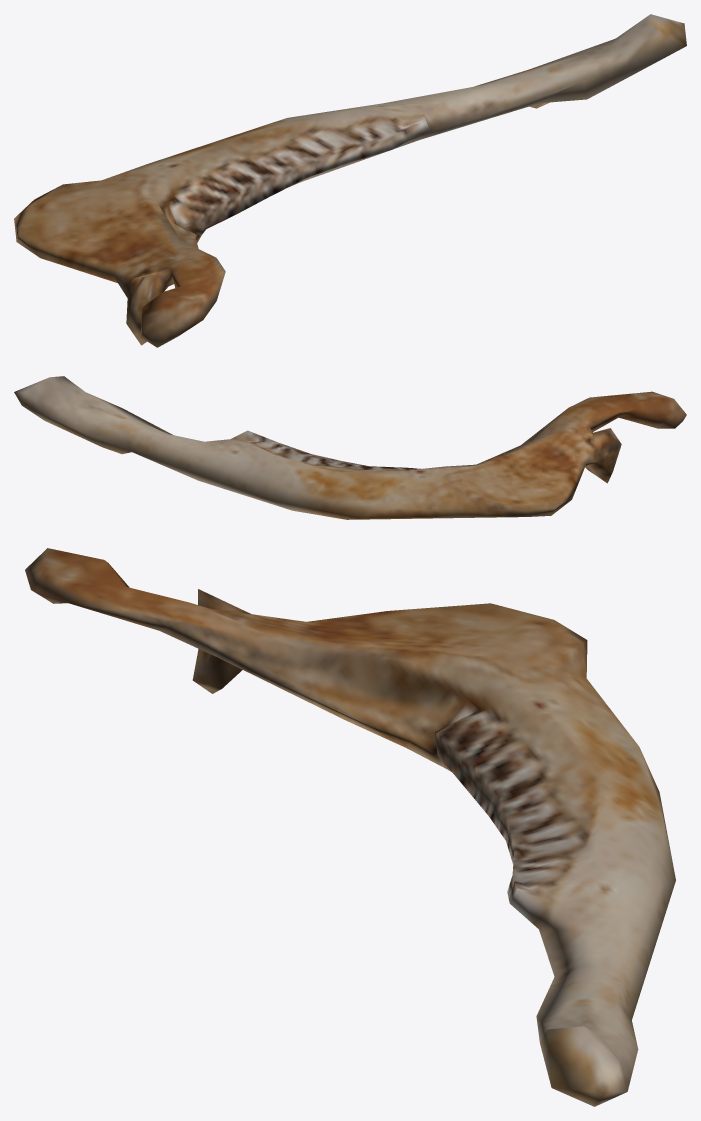
Rendered from skeleton_animal_jaw.fbx.
3 renders of one model, top to bottom at view 1: azimuth 30°, elevation 25°; view 2: azimuth 150°, elevation 25°; view 3: azimuth 270°, elevation 25°, orthographic. The views are drawn at different scales.
Parts seen in each view (by area): view 1: skeleton_animal_jaw; view 2: skeleton_animal_jaw; view 3: skeleton_animal_jaw.
Part boxes in pixels (box(x1,y1,x2,y2)): skeleton_animal_jaw: box(14, 14, 686, 347); skeleton_animal_jaw: box(14, 376, 686, 519); skeleton_animal_jaw: box(25, 548, 675, 1106).
Bounding box in the file's own units: 39.85 × 4.41 × 21.04.
